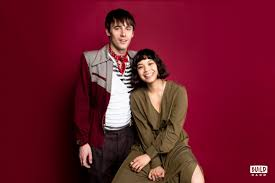Bad: (73, 8, 205, 183)
